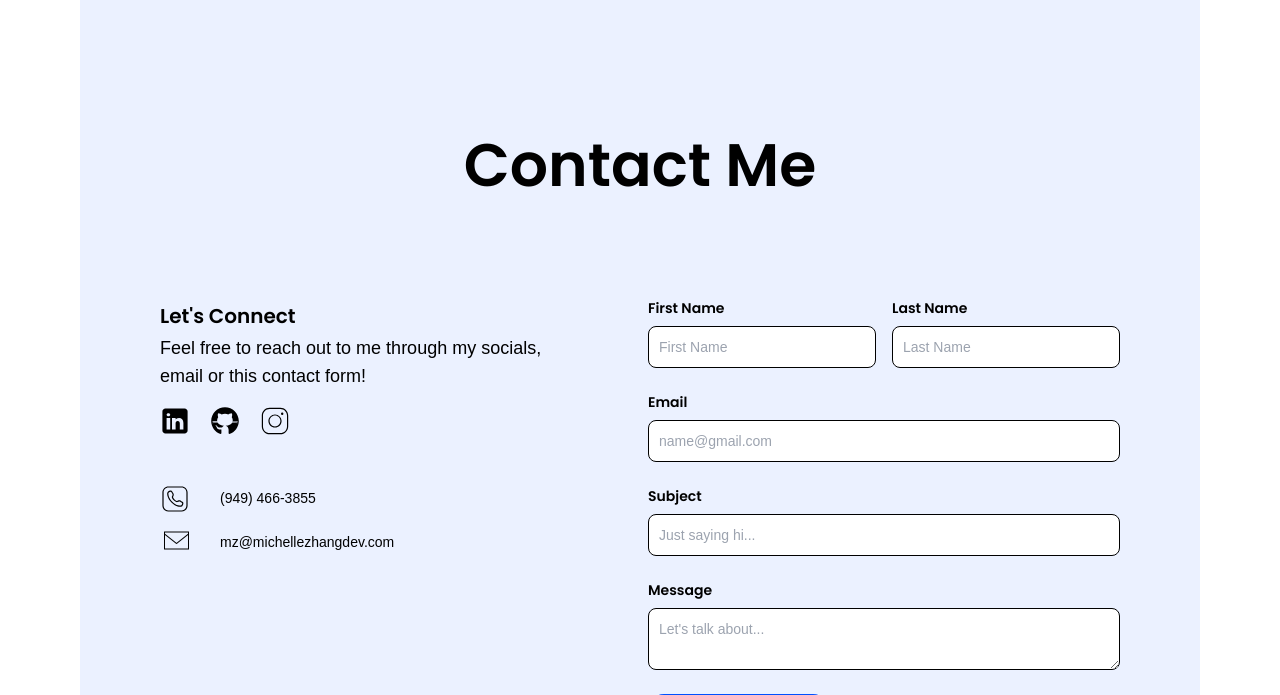
it: ContactMeSection Component › submits the form and shows a success message
// Fill in form fields
Type "John" into the field labelled "First Name".
click(762, 347); type("John")  # box [648,326,876,368]
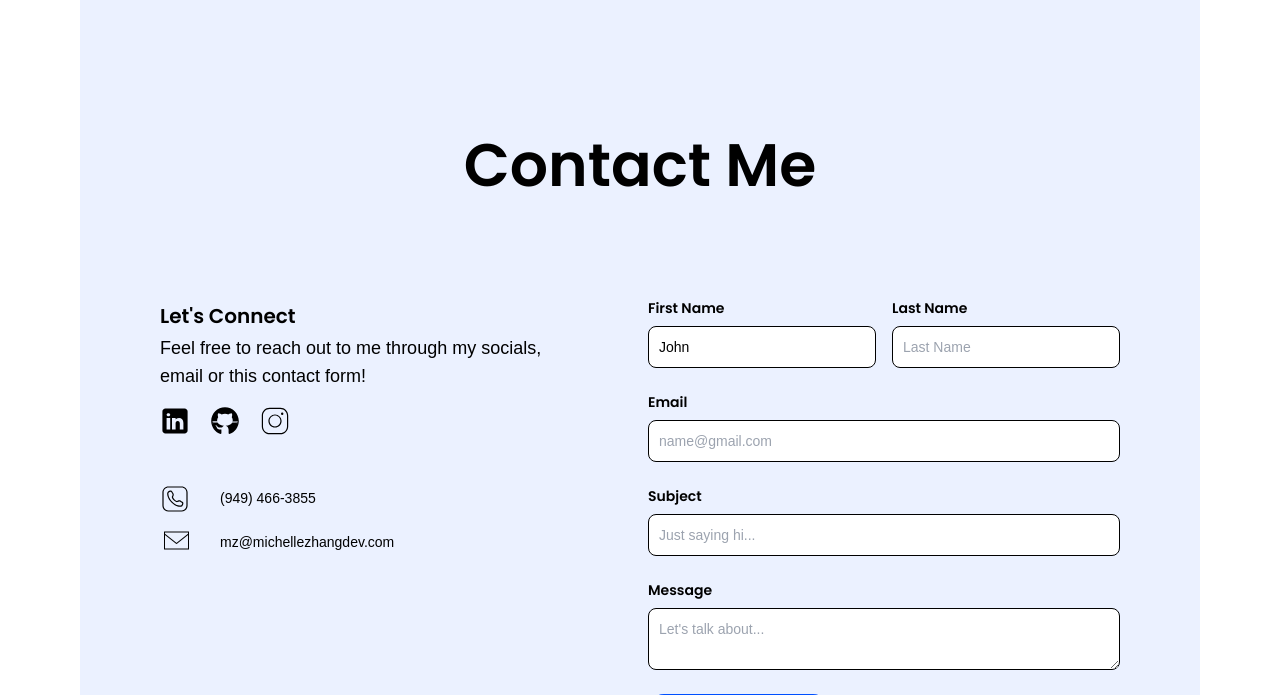
Type "Doe" into the field labelled "Last Name".
click(1006, 347); type("Doe")  # box [892,326,1120,368]
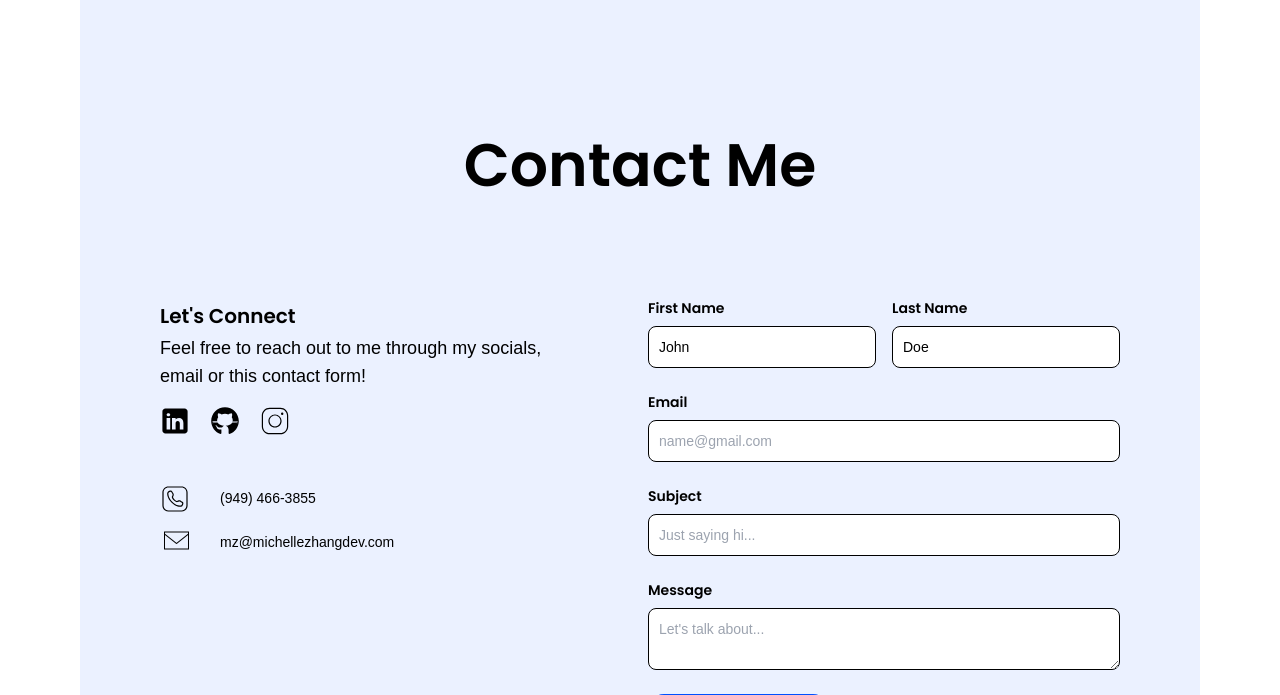
Type "john.doe@example.com" into the field labelled "Email".
click(884, 441); type("john.doe@example.com")  # box [648,420,1120,462]
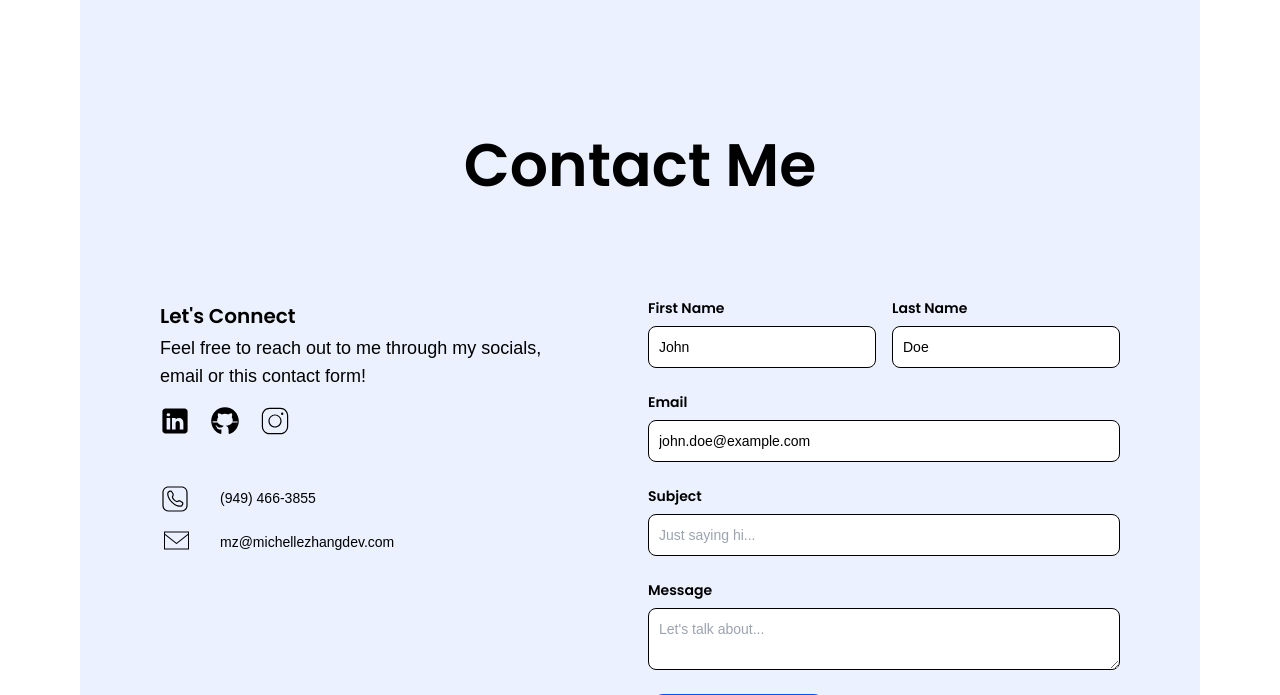
Type "Hello" into the field labelled "Subject".
click(884, 535); type("Hello")  # box [648,514,1120,556]
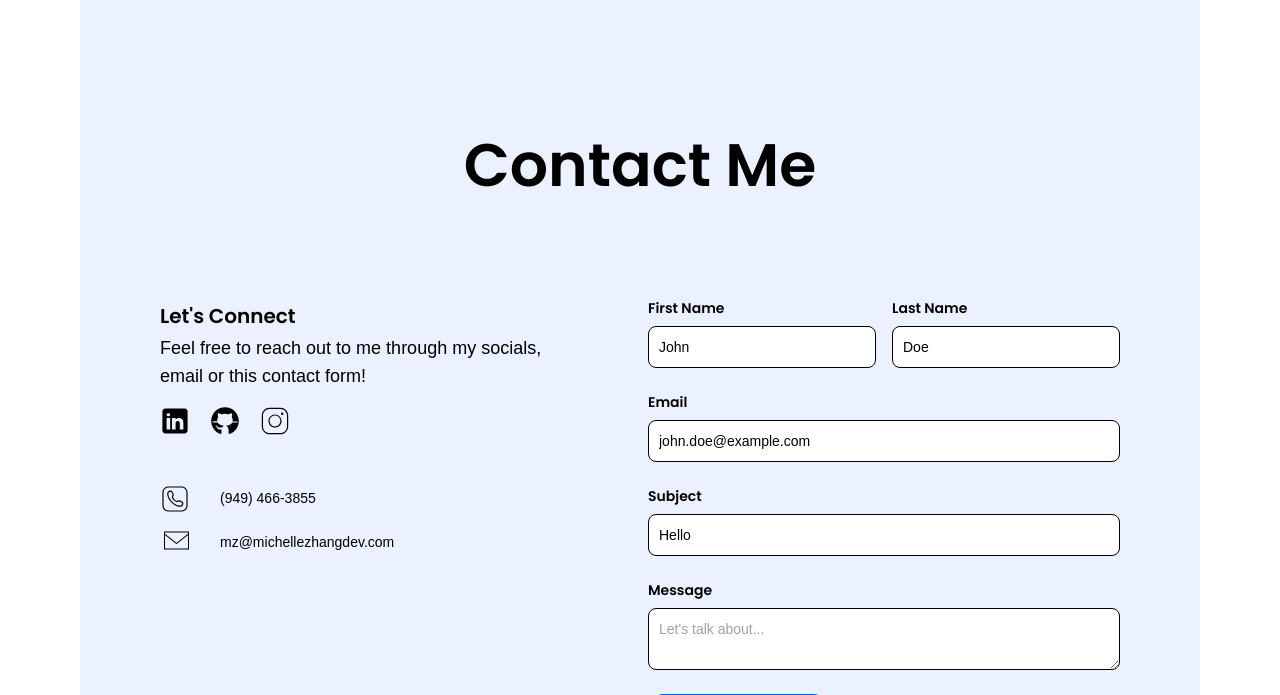
Type "This is a test message." into the text box labelled "Message".
click(884, 639); type("This is a test message.")  # box [648,608,1120,670]
(page scrolled)
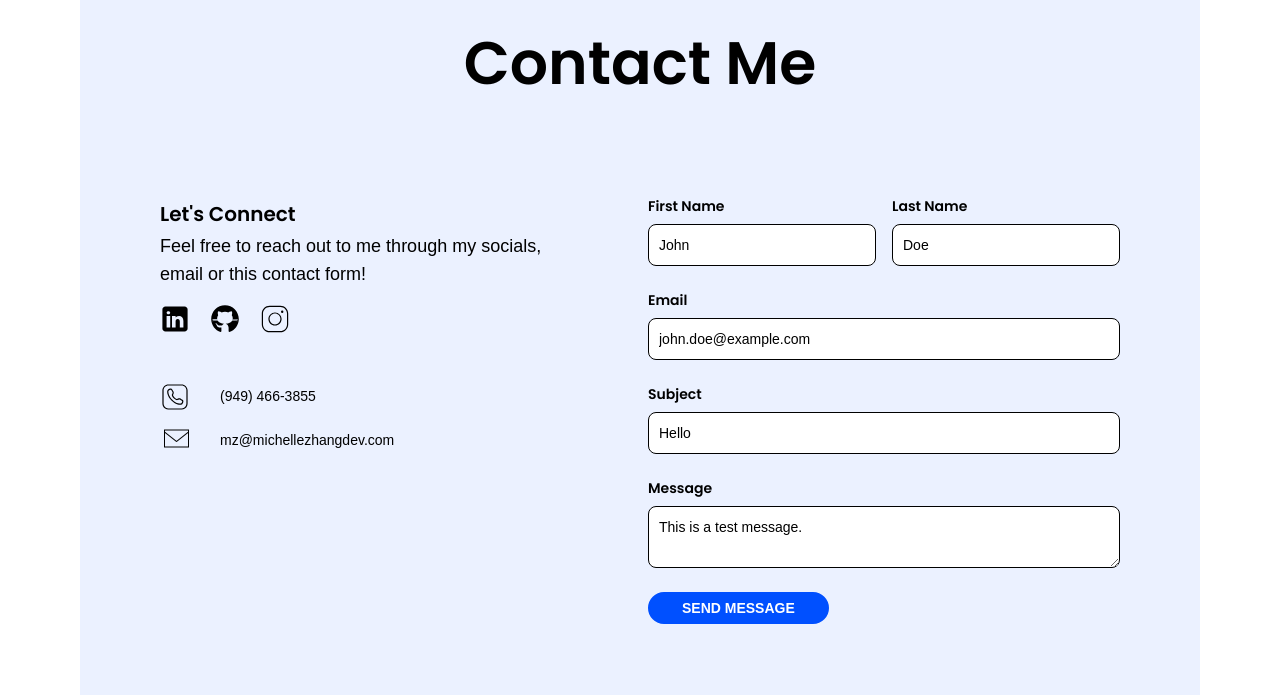
// Submit the form
Click the button "Send Message".
click(738, 608)  # box [648,592,829,624]
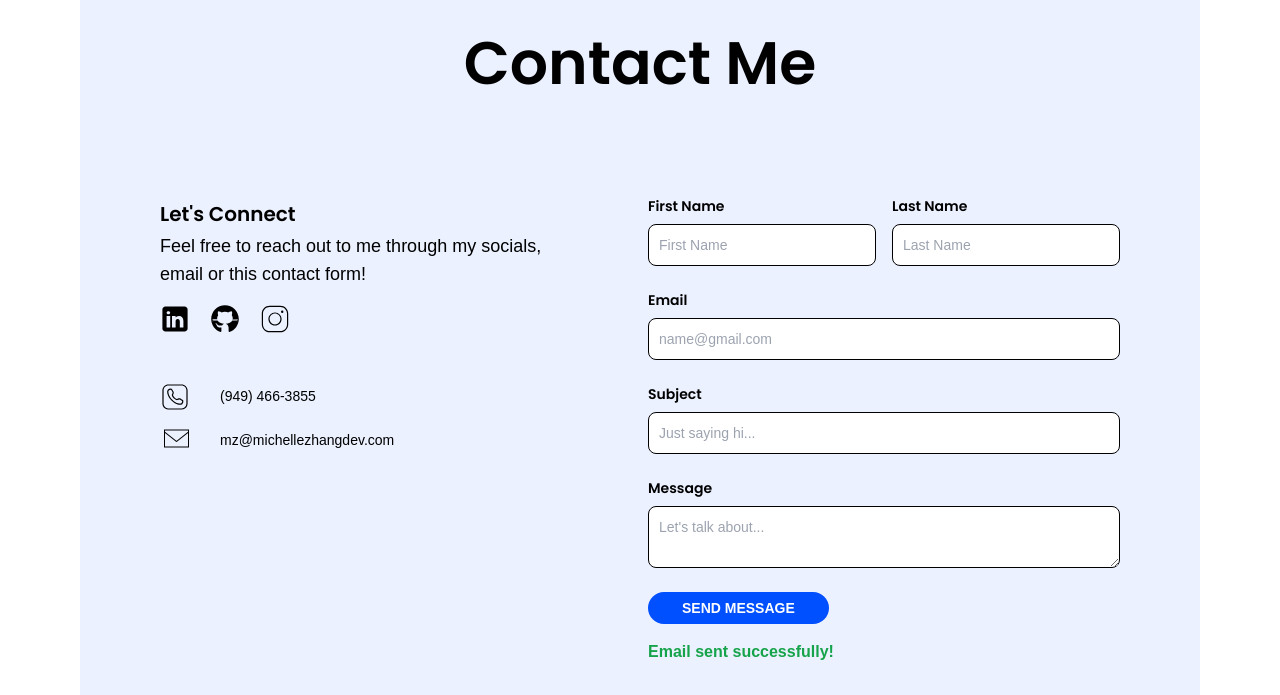
Check: the text "Email sent successfully!" is shown, box [648,643,834,660]
